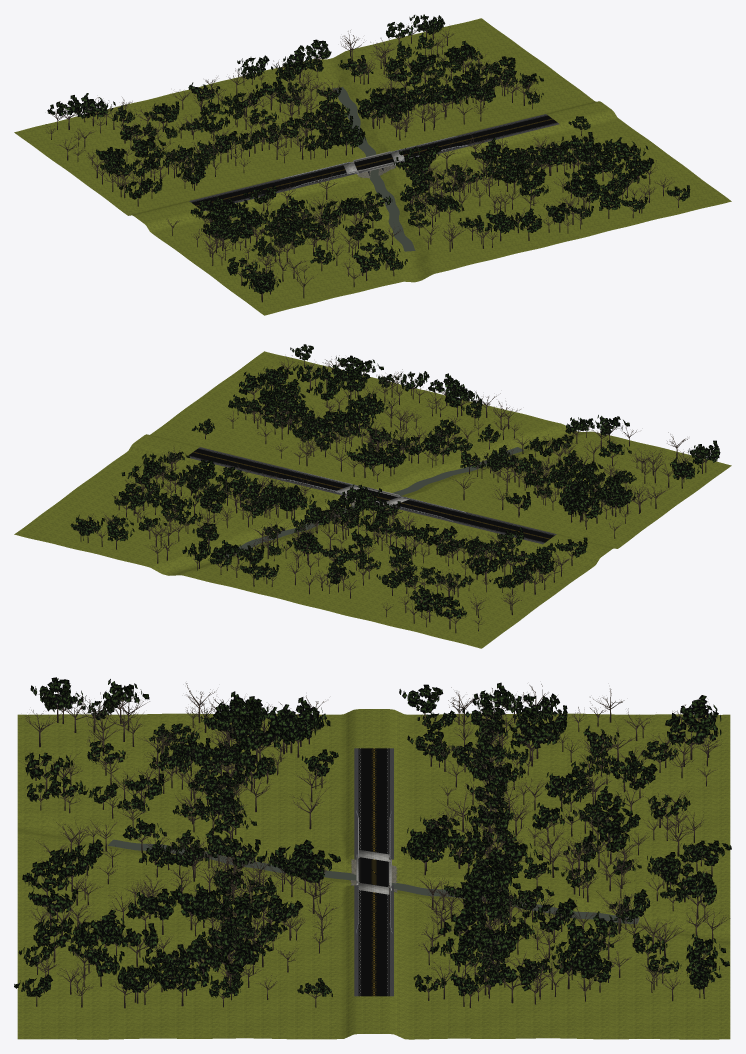
File: bridge_07620.glb
The picture shows the model from 3 angles, top to bottom: view 1: azimuth 30°, elevation 25°; view 2: azimuth 150°, elevation 25°; view 3: azimuth 270°, elevation 25°; orthographic projection. The views are drawn at different scales.
Parts seen in each view (by area): view 1: TerrainOuter, TerrainInner, Water, Approach1, Approach0; view 2: TerrainOuter, TerrainInner, Approach1, Approach0, Water, TreeLeaves2; view 3: TerrainOuter, TreeLeaves2 (×48), TerrainInner, Approach1, Approach0, Water, DeckSurface.
Boxes of the visible parts, x1,y1,x2,y2 form: TerrainOuter: (14, 18, 731, 315); TerrainInner: (274, 126, 469, 203); Water: (332, 87, 415, 251); Approach1: (402, 115, 557, 158); Approach0: (191, 165, 346, 208); TerrainOuter: (14, 351, 731, 648); TerrainInner: (277, 459, 471, 541); Approach1: (188, 448, 350, 491); Approach0: (395, 499, 554, 542); Water: (226, 447, 524, 557); TreeLeaves2: (427, 596, 466, 618); TerrainOuter: (17, 709, 730, 1039); TreeLeaves2 (×48): (22, 677, 729, 990); TerrainInner: (272, 828, 473, 922); Approach1: (358, 885, 389, 996); Approach0: (358, 748, 389, 858); Water: (107, 839, 639, 924); DeckSurface: (359, 857, 389, 887).
Bounding box in the file's own units: 914 × 64.1 × 846.
Materials: 15 (11 with a texture image).
